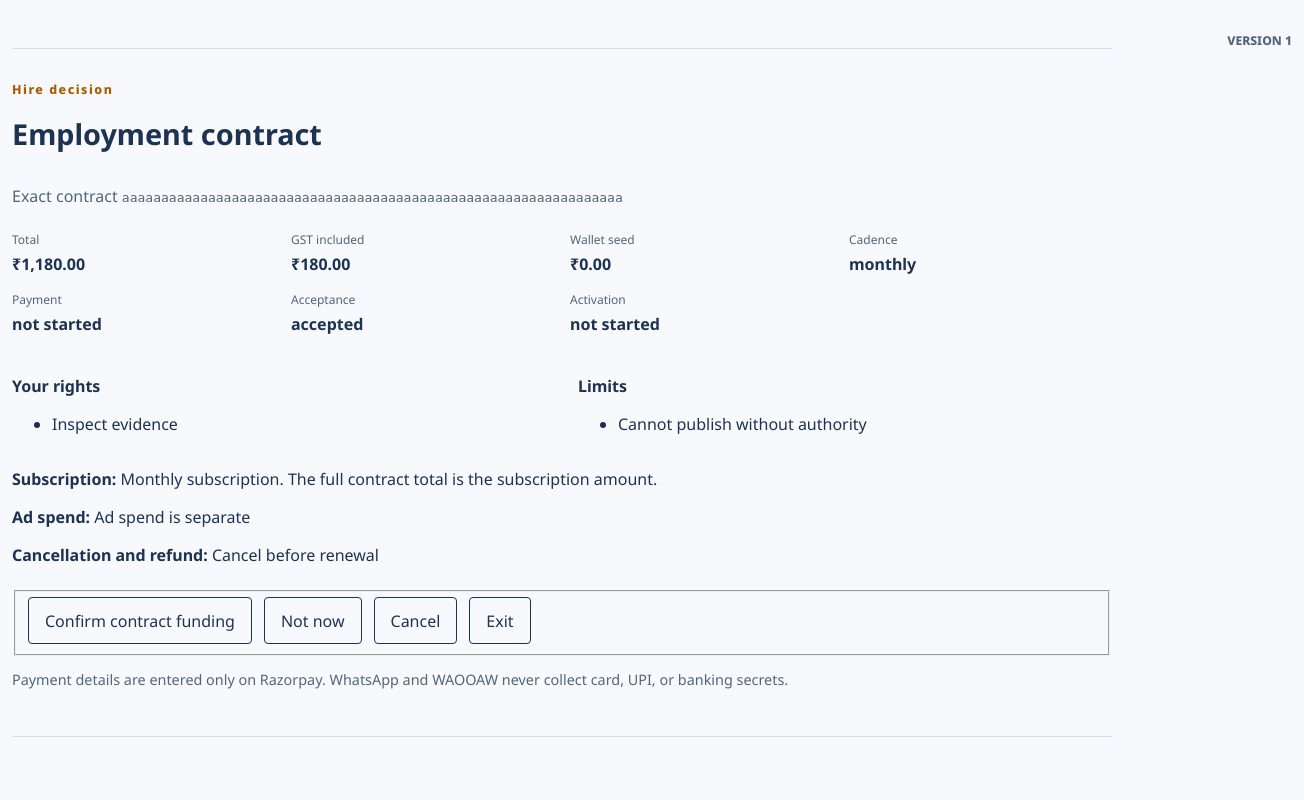
Test: ContractJourney Razorpay Standard Checkout › keeps a rejected funding command unresolved
The width and height of the screenshot is (1304, 800).
Click the button "Confirm contract funding". click: (140, 621)
box: [28,597,252,644]
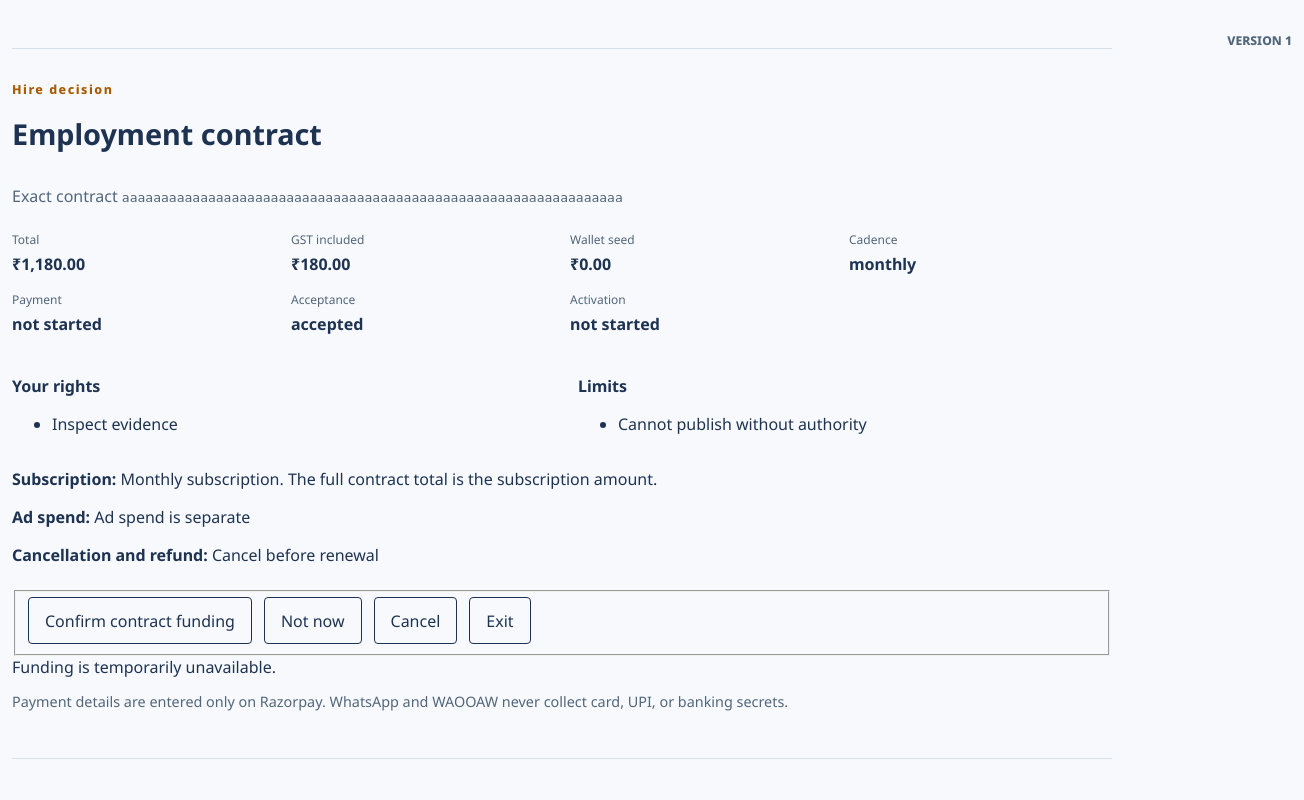
expect the text "Funding is temporarily unavailable." is shown: met, box [12,656,276,678]
